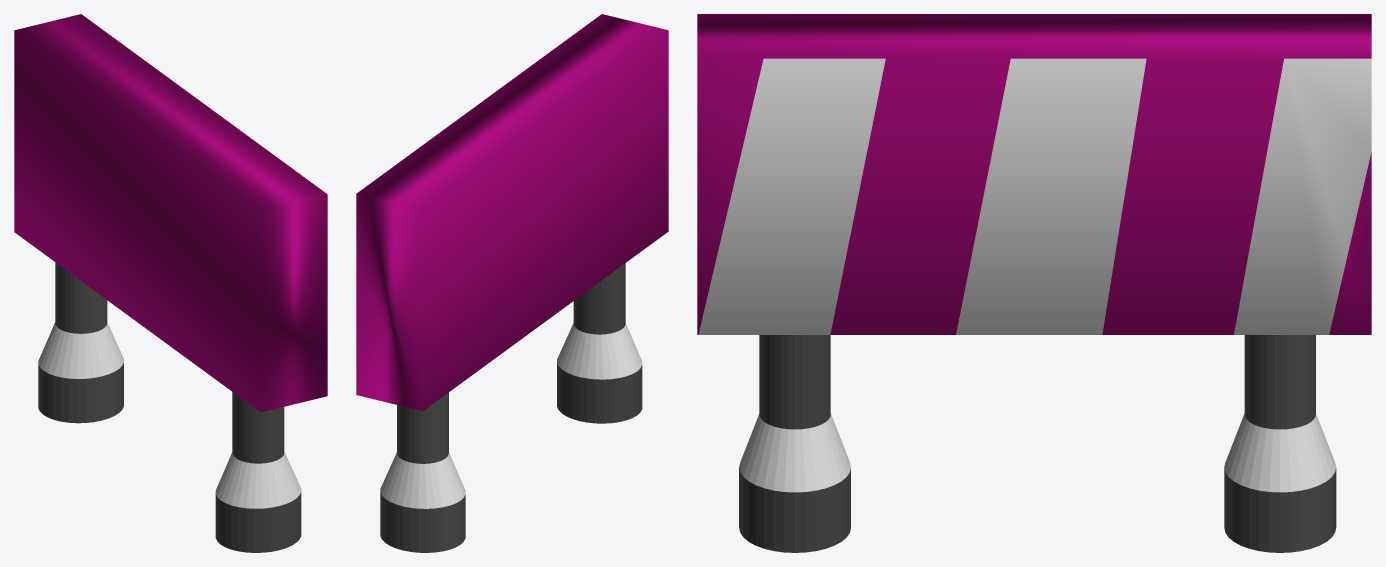
File: obs-7.fbx
The picture shows the model from 3 angles, left to right: view 1: azimuth 30°, elevation 25°; view 2: azimuth 150°, elevation 25°; view 3: azimuth 270°, elevation 25°; orthographic projection. The views are drawn at different scales.
Parts seen in each view (by area): view 1: Cube, Cylinder, Cylinder.001; view 2: Cube, Cylinder.001, Cylinder; view 3: Cube, Cylinder.001, Cylinder.
Boxes of the visible parts, box(x1,y1,x2,y2) form: Cube: box(14, 14, 327, 412); Cylinder: box(215, 392, 301, 552); Cylinder.001: box(38, 262, 123, 423); Cube: box(356, 14, 668, 411); Cylinder.001: box(380, 392, 465, 552); Cylinder: box(557, 263, 642, 423); Cube: box(697, 14, 1371, 334); Cylinder.001: box(1224, 335, 1336, 552); Cylinder: box(739, 335, 850, 552).
Bounding box in the file's own units: 24.3 × 110 × 137.
